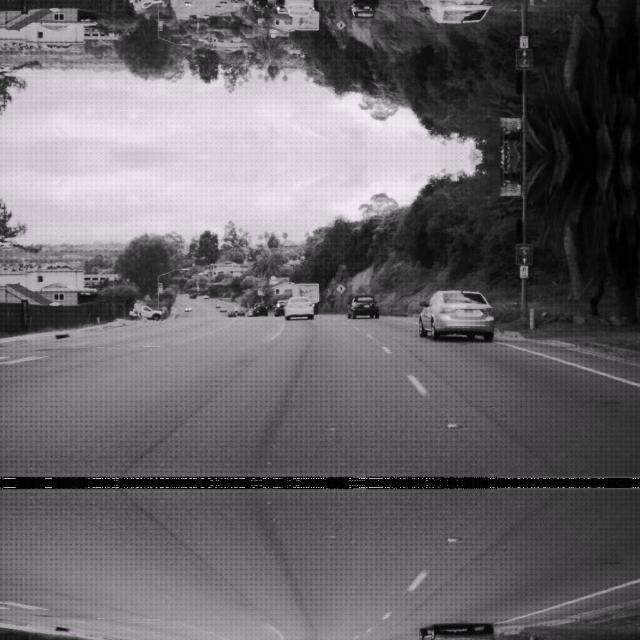pedestrianCrossing: (334, 282, 346, 292), (334, 20, 346, 30)
